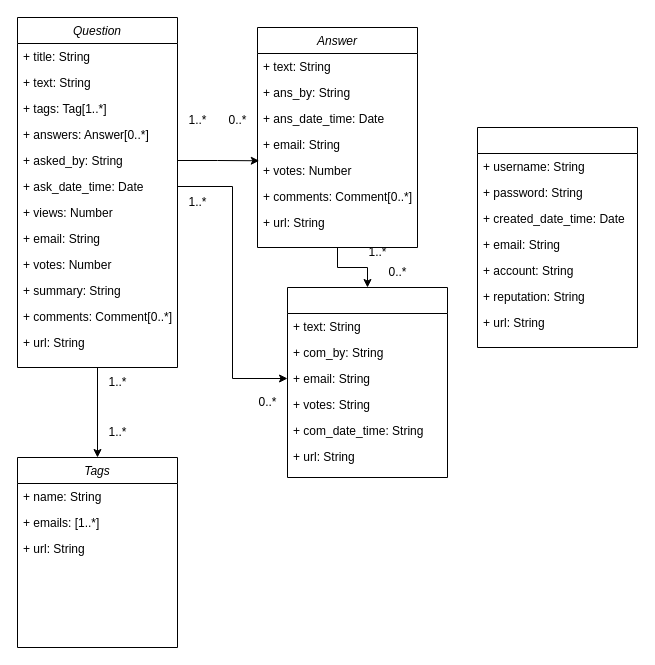
Image size: 655x665. Some labels were removed from this diagram. The shapes that lost their labels are listed below. From the top down, each one's box as (x1, y1, x2, y2) in pixels, then its label:
(476, 126, 638, 348): profiles
(286, 286, 448, 478): Comment
